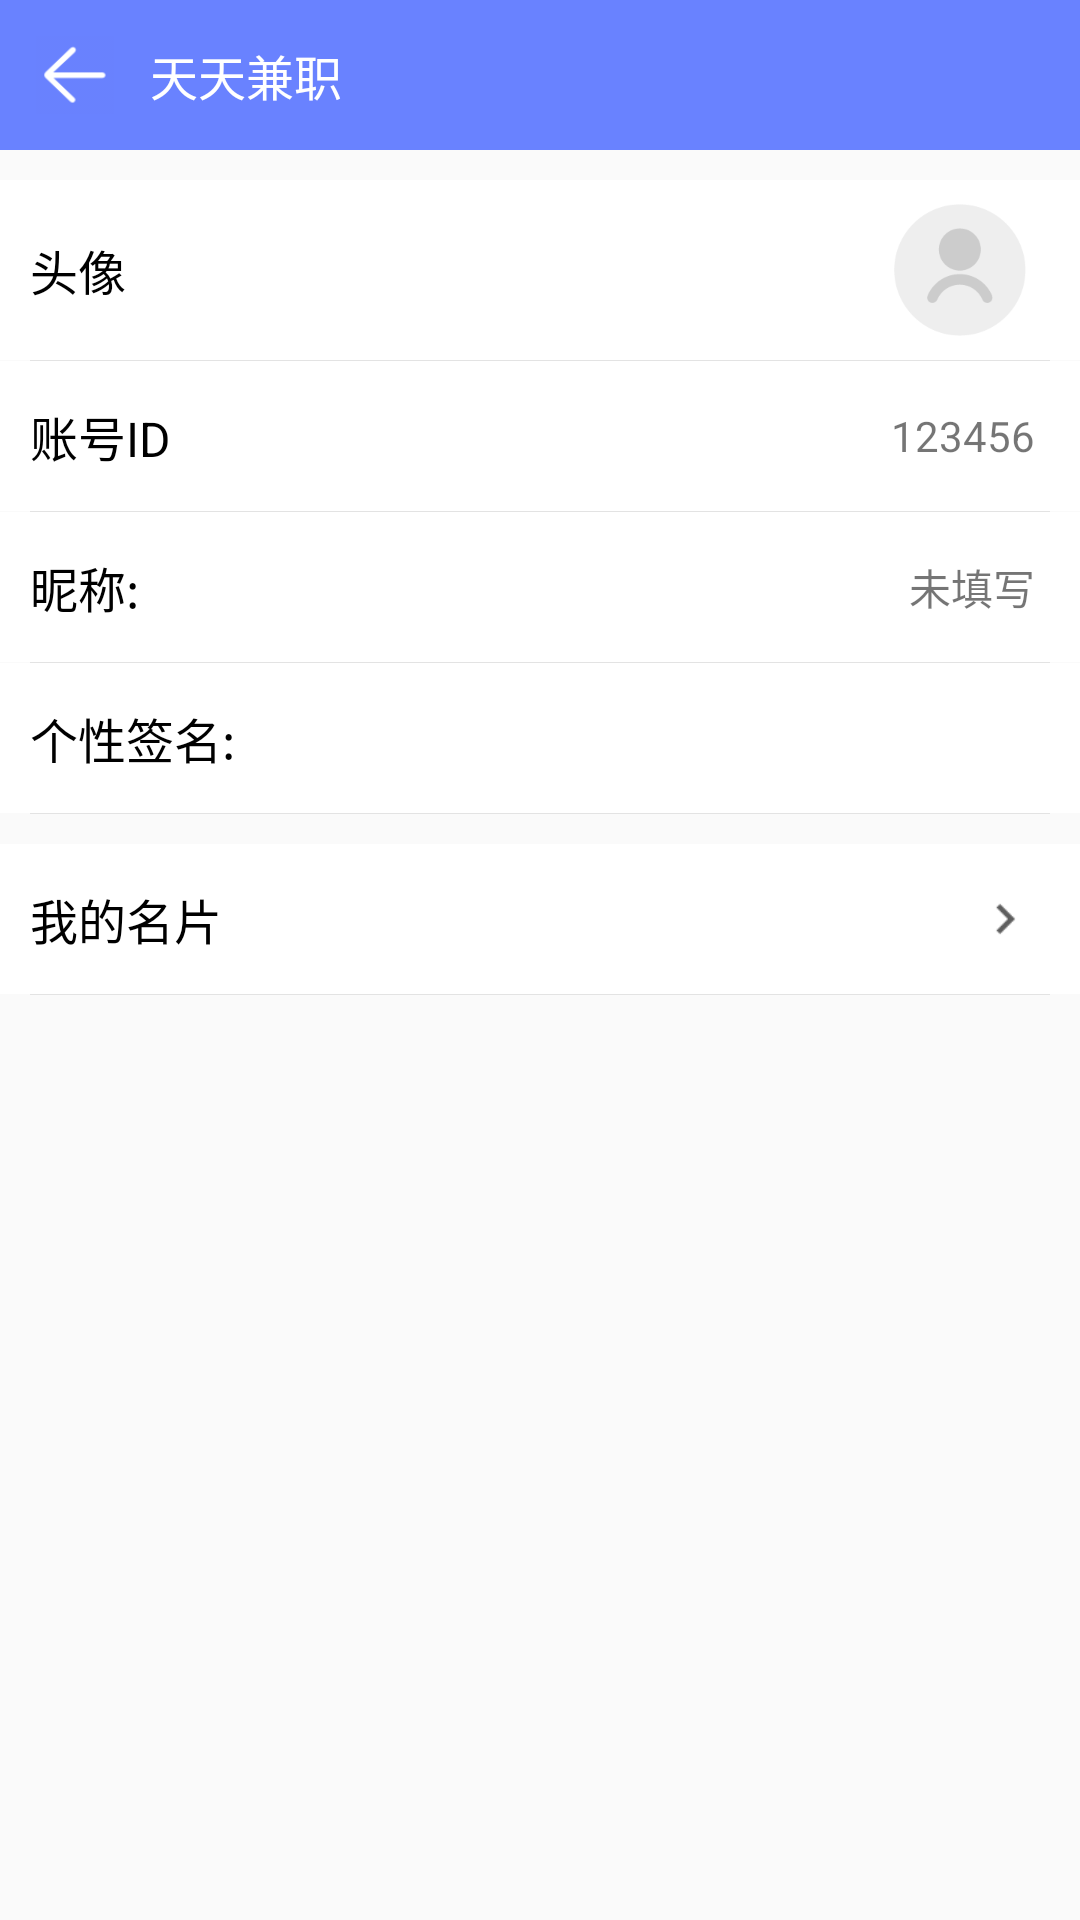

Point at icon controls on the screen. Image size 1080w x 1920h, points as [x,y].
back: [75,75]
right: [1005,919]
user head: [959,270]
